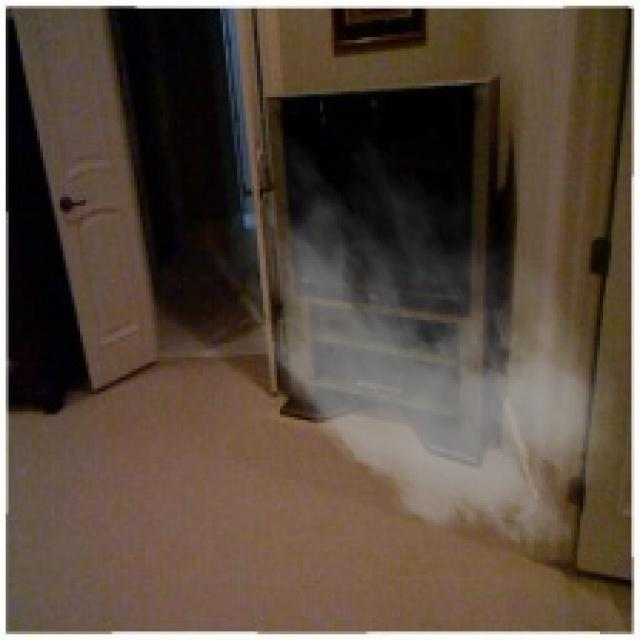Smoke: (220, 137, 637, 563)
